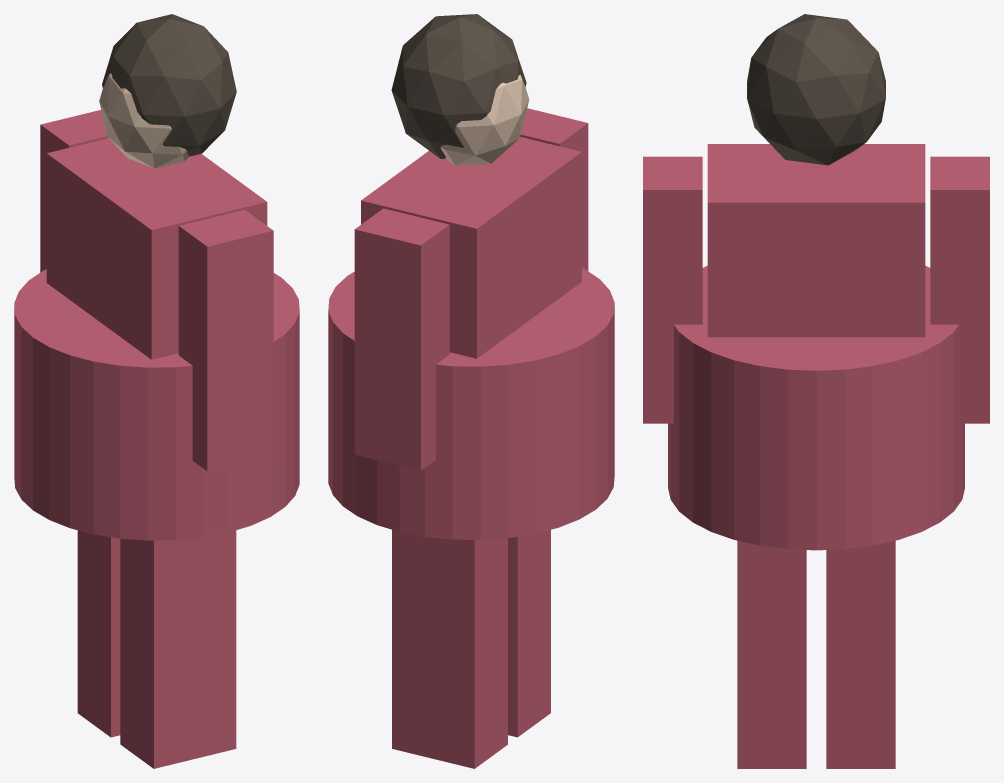
Rendered from Woman.glb.
3 views of the same model, side by side, from view 1: azimuth 30°, elevation 25°; view 2: azimuth 150°, elevation 25°; view 3: azimuth 270°, elevation 25° (orthographic). The views are drawn at different scales.
Parts seen in each view (by area): view 1: WomanSkirt, WomanTorso, WomanLeg2, WomanArm2, WomanHair, WomanLeg1, WomanHead, WomanArm1; view 2: WomanSkirt, WomanTorso, WomanLeg1, WomanArm1, WomanHair, WomanLeg2, WomanHead, WomanArm2; view 3: WomanSkirt, WomanTorso, WomanHair, WomanLeg1, WomanLeg2, WomanArm1, WomanArm2.
Part boxes in pixels (x1,y1,x2,y2): WomanSkirt: (14, 269, 299, 540); WomanTorso: (46, 138, 267, 359); WomanLeg2: (120, 530, 236, 768); WomanArm2: (178, 209, 273, 471); WomanHair: (102, 14, 236, 156); WomanLeg1: (77, 530, 120, 737); WomanHead: (99, 73, 189, 168); WomanArm1: (40, 110, 108, 272); WomanSkirt: (328, 268, 614, 539); WomanTorso: (361, 137, 581, 358); WomanLeg1: (392, 530, 507, 768); WomanArm1: (354, 208, 449, 470); WomanHair: (391, 14, 526, 158); WomanLeg2: (508, 530, 550, 737); WomanHead: (440, 75, 529, 165); WomanArm2: (520, 108, 588, 270); WomanSkirt: (668, 265, 964, 550); WomanTorso: (707, 144, 925, 337); WomanHair: (747, 14, 885, 165); WomanLeg1: (826, 540, 895, 768); WomanLeg2: (737, 540, 806, 768); WomanArm1: (930, 156, 989, 423); WomanArm2: (643, 156, 702, 423).
Bounding box in the file's own units: 0.6 × 1.64 × 0.7.
